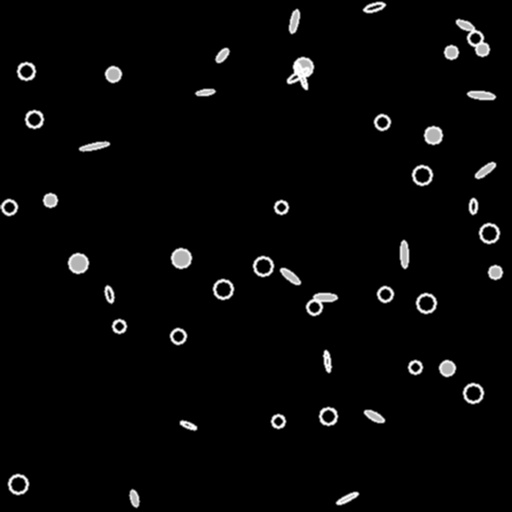pseudomonas: (279, 266, 301, 286), (286, 66, 310, 84), (474, 161, 496, 179), (294, 61, 308, 89), (363, 408, 385, 424), (336, 491, 358, 505), (80, 141, 108, 151), (363, 1, 385, 13), (468, 90, 494, 100), (214, 47, 230, 63), (289, 9, 299, 33), (103, 285, 115, 303), (456, 19, 474, 31), (128, 489, 140, 507), (323, 350, 331, 372), (401, 240, 407, 268), (180, 420, 196, 430), (196, 88, 214, 96), (314, 294, 336, 300), (469, 198, 477, 214)
synechocystis: (69, 254, 87, 272), (9, 475, 27, 493), (413, 166, 431, 184), (417, 294, 435, 312), (480, 224, 498, 242), (464, 384, 482, 402), (172, 249, 190, 267), (254, 257, 272, 275), (294, 58, 312, 76), (214, 280, 232, 298), (425, 127, 441, 143), (18, 63, 34, 79), (26, 111, 42, 127), (320, 408, 336, 424), (2, 200, 16, 214), (307, 300, 321, 314), (468, 31, 482, 45), (440, 361, 454, 375), (378, 287, 392, 301), (106, 67, 120, 81), (171, 329, 185, 343), (375, 115, 389, 129), (445, 46, 457, 58), (44, 194, 56, 206), (113, 320, 125, 332), (409, 361, 421, 373), (275, 201, 287, 213), (489, 266, 501, 278), (272, 415, 284, 427), (476, 43, 488, 55)
